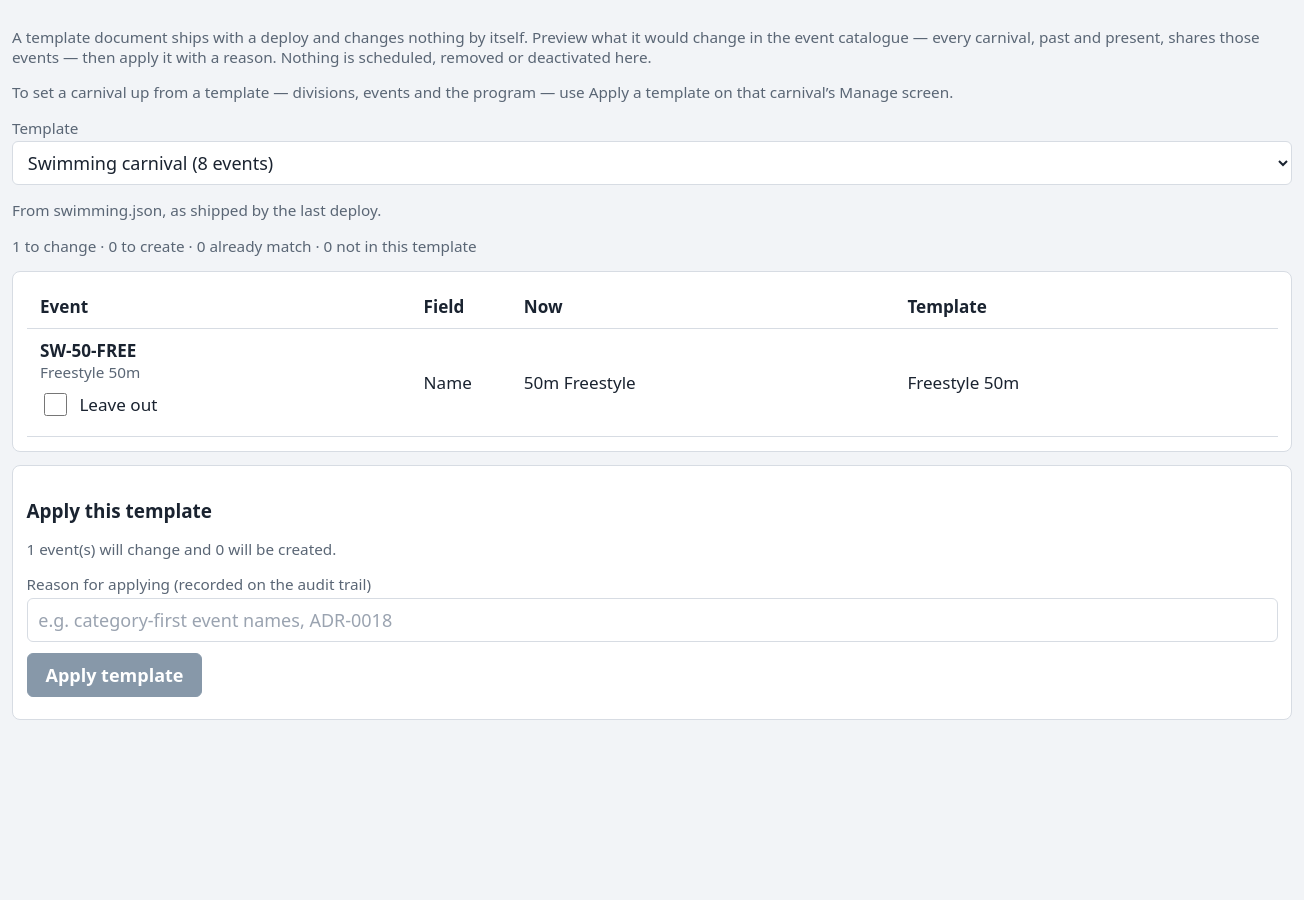
Test: TemplatesSection › re-reads the preview when the server says it is stale
Type "Category-first names." into the field labelled "Reason for applying (recorded on the audit trail)" at [652, 620], box [26,598,1278,642]
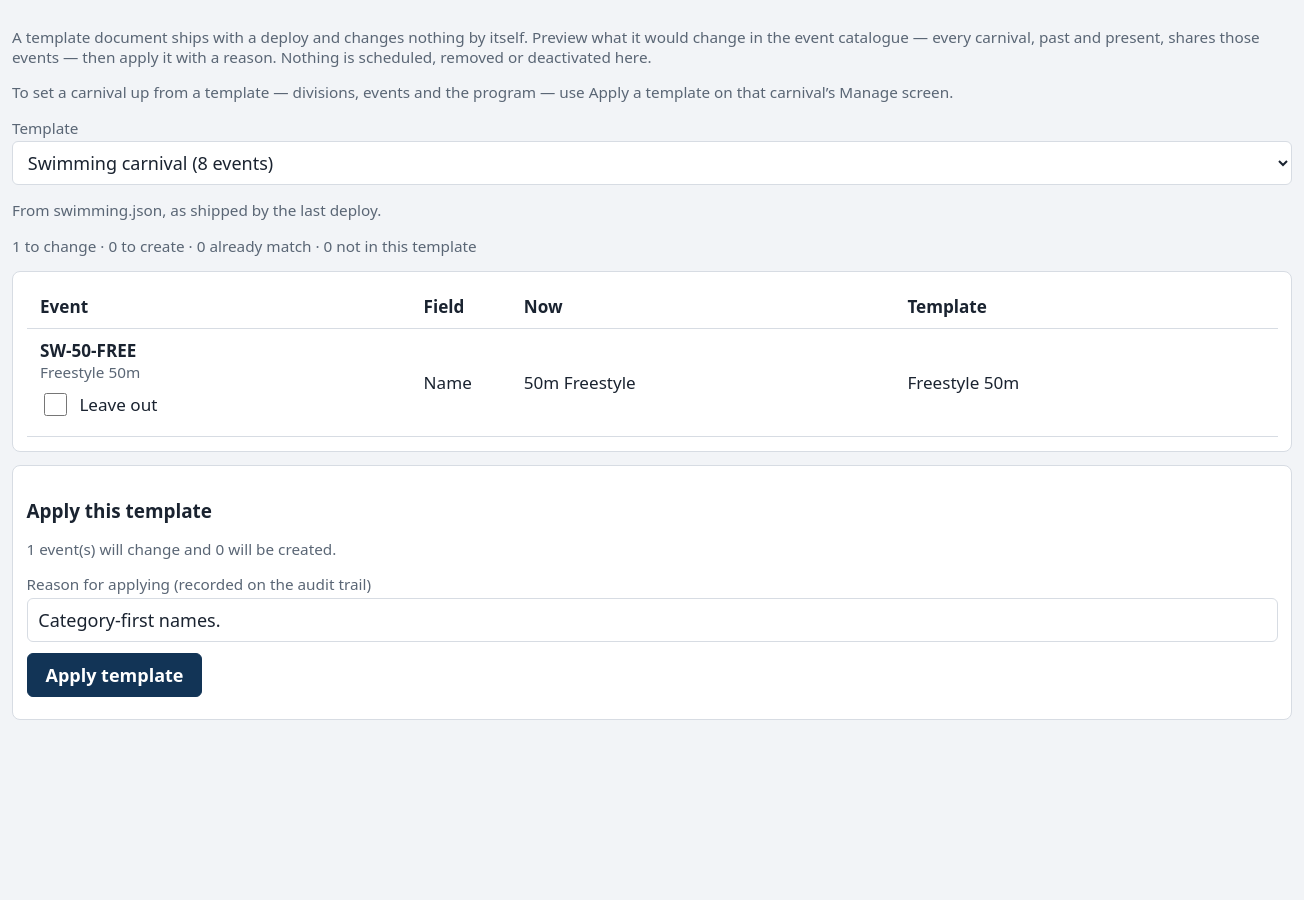
Click the button "Apply template" at [114, 675], box [26,653,202,697]
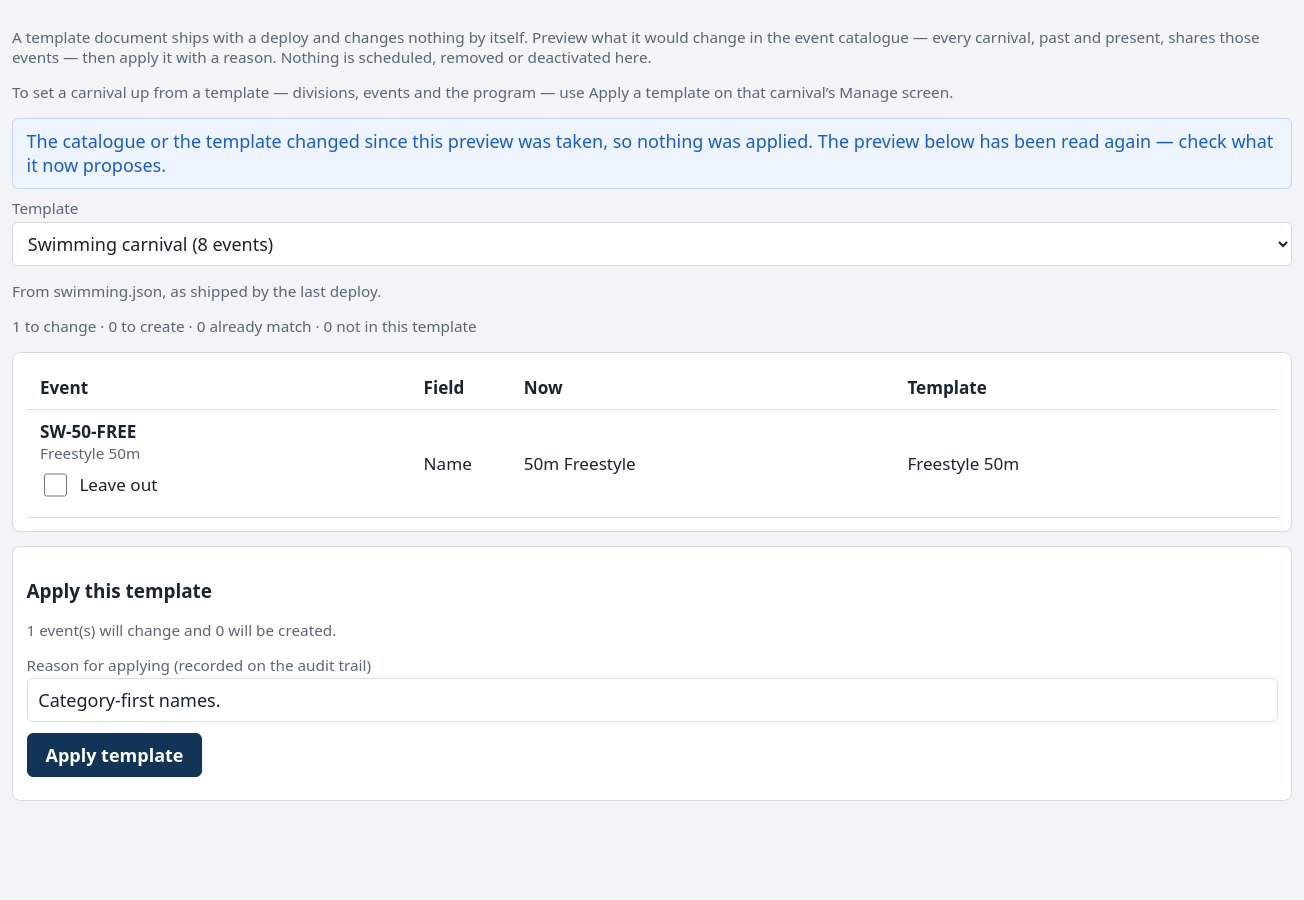
Expected: the text "changed since this preview was taken" is shown, [26,129,1273,177]
